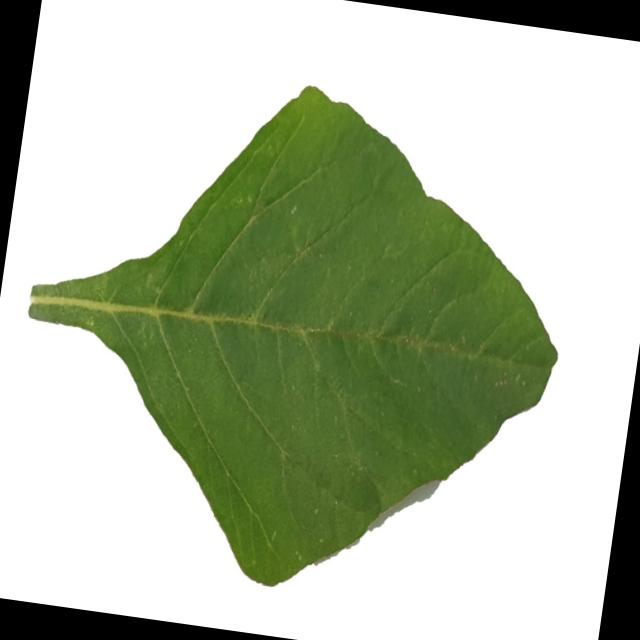Medicinal-Arive Dantu: (0, 49, 592, 623)
